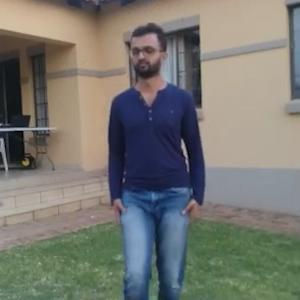follow: (108, 37, 195, 299)
